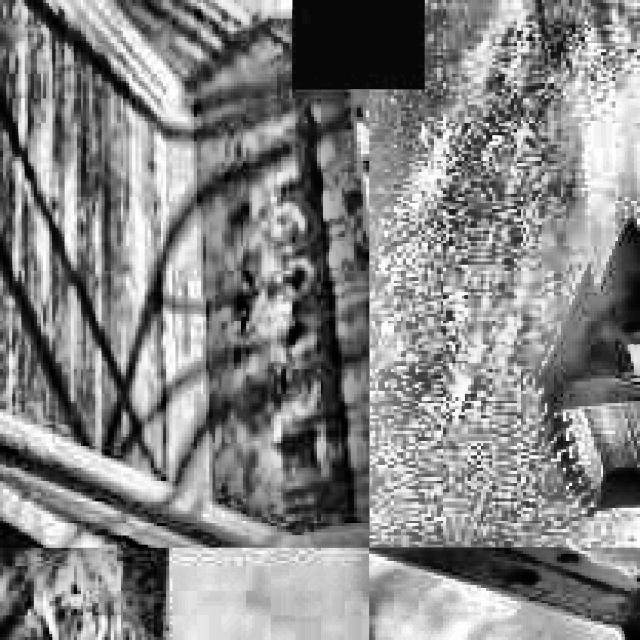buldozerpayloadergrader: (538, 228, 640, 517)
dump_truck: (0, 0, 366, 545)
